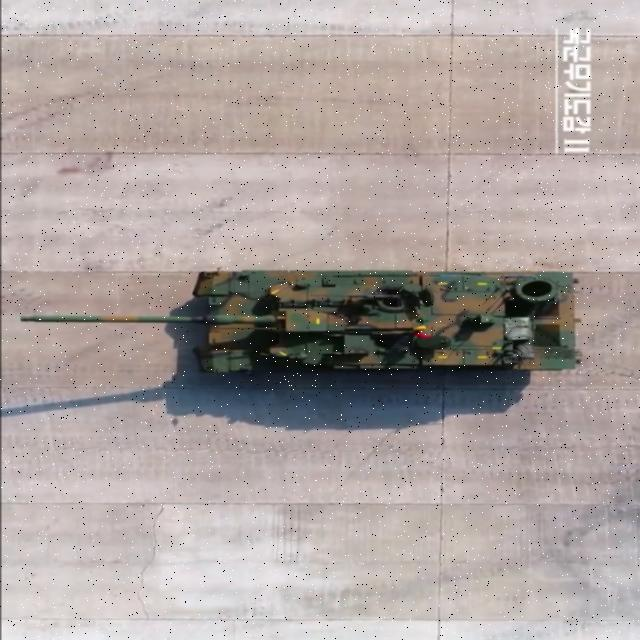korea tank: (14, 263, 584, 381)
